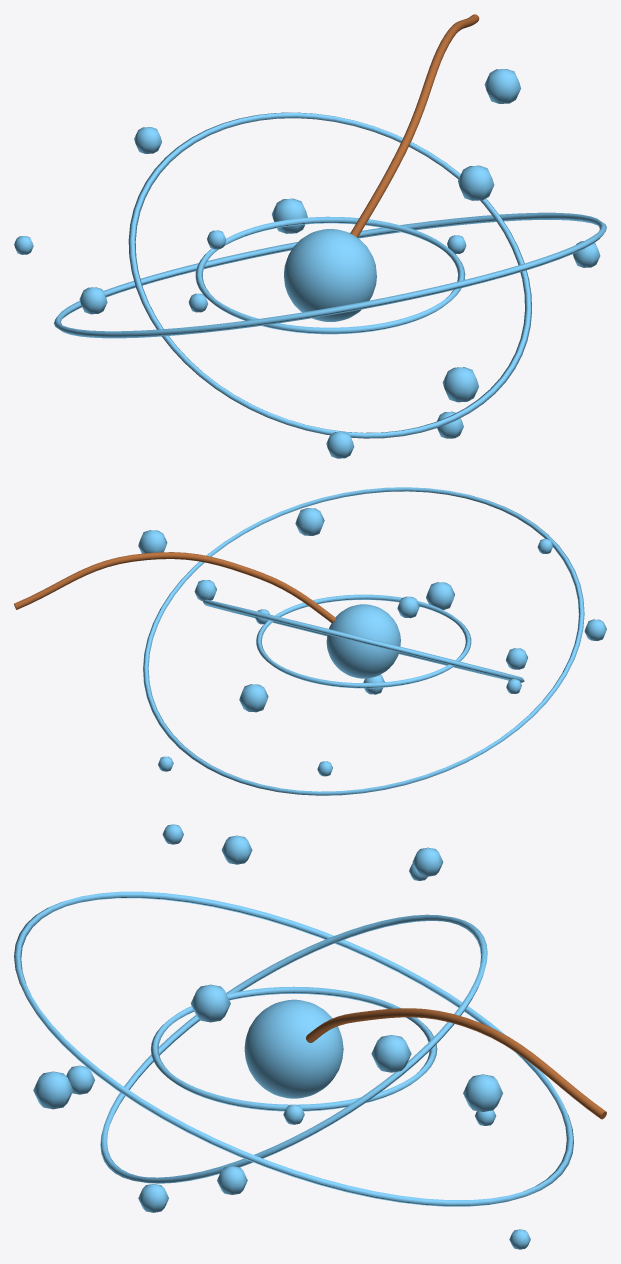
The model's file is sternkarte.obj.
3 views of the same model, one above another, from view 1: azimuth 30°, elevation 25°; view 2: azimuth 150°, elevation 25°; view 3: azimuth 270°, elevation 25° (orthographic). The views are drawn at different scales.
Visible parts, largest first — view 1: Sternkarte; view 2: Sternkarte; view 3: Sternkarte.
Boxes of the visible parts, x1,y1,x2,y2 form: Sternkarte: (14,14,606,458); Sternkarte: (14,487,606,795); Sternkarte: (14,824,606,1249).
Size of the model in its own units: 4.51 by 1.96 by 3.83.
